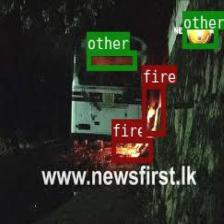fire: (142, 82, 164, 135), (111, 137, 151, 161)
